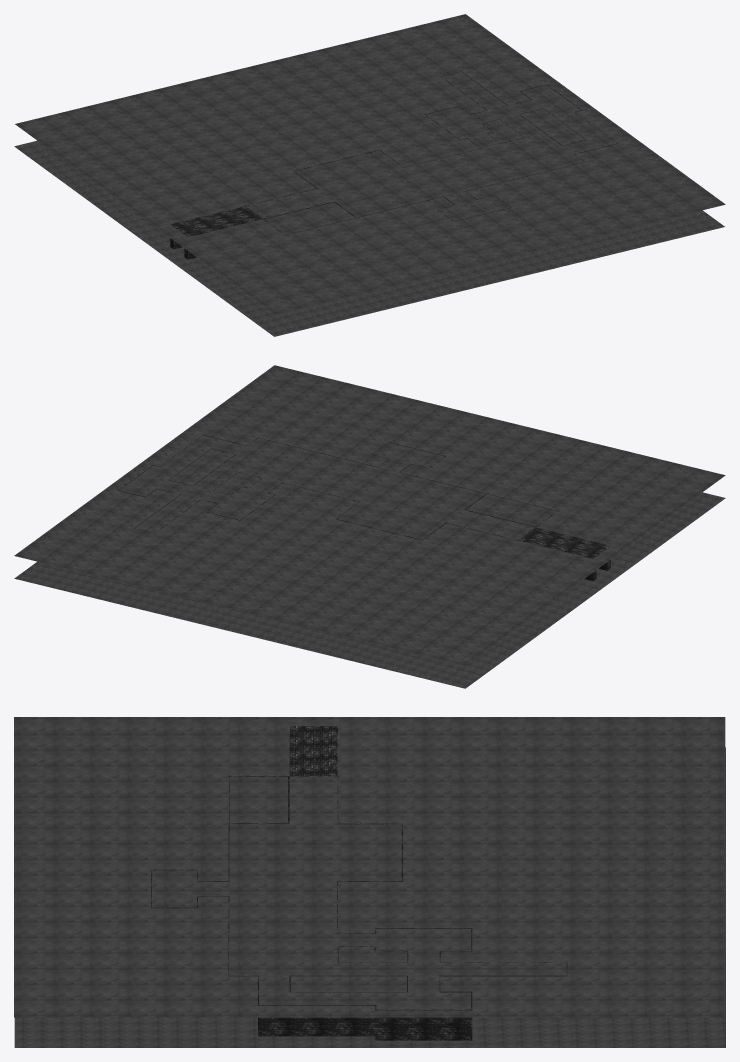
Rendered from Prueba Mapa  IA4fbx.fbx.
3 views of the same model, one above another, from view 1: azimuth 30°, elevation 25°; view 2: azimuth 150°, elevation 25°; view 3: azimuth 270°, elevation 25° (orthographic). The views are drawn at different scales.
Visible parts, largest first — view 1: Plane.002, Plane.001, Cube; view 2: Plane.002, Plane.001, Cube; view 3: Plane.002, Plane.001, Cube.
Part boxes in pixels (x1,y1,x2,y2): Plane.002: (15, 14, 725, 314); Plane.001: (14, 140, 724, 336); Cube: (170, 71, 618, 259); Plane.002: (14, 365, 725, 665); Plane.001: (14, 492, 725, 688); Cube: (118, 435, 610, 580); Plane.002: (14, 717, 725, 1017); Plane.001: (14, 747, 725, 1047); Cube: (151, 726, 567, 1040).
Size of the model in its own units: 9208 by 1014 by 9210.
